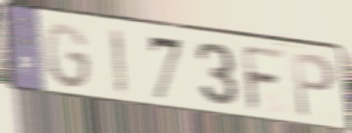3: (193, 41, 241, 110)
7: (144, 33, 188, 102)
F: (239, 43, 289, 116)
G: (43, 20, 93, 93)
I: (107, 26, 130, 99)
P: (290, 50, 339, 122)
